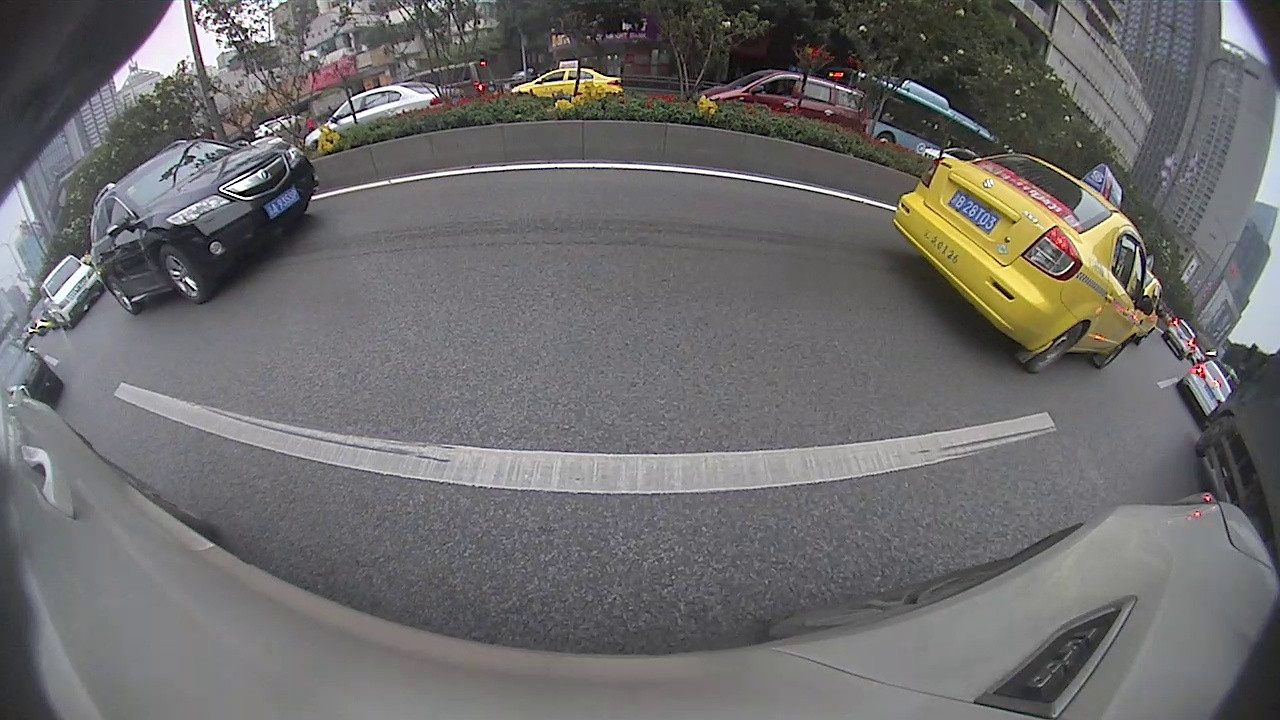car: (891, 150, 1150, 375), (89, 140, 317, 314), (41, 257, 105, 331), (1181, 362, 1232, 425)
front: (160, 248, 203, 303), (1102, 334, 1135, 372), (875, 129, 896, 150)
rear: (1029, 324, 1085, 373), (108, 278, 135, 314)
